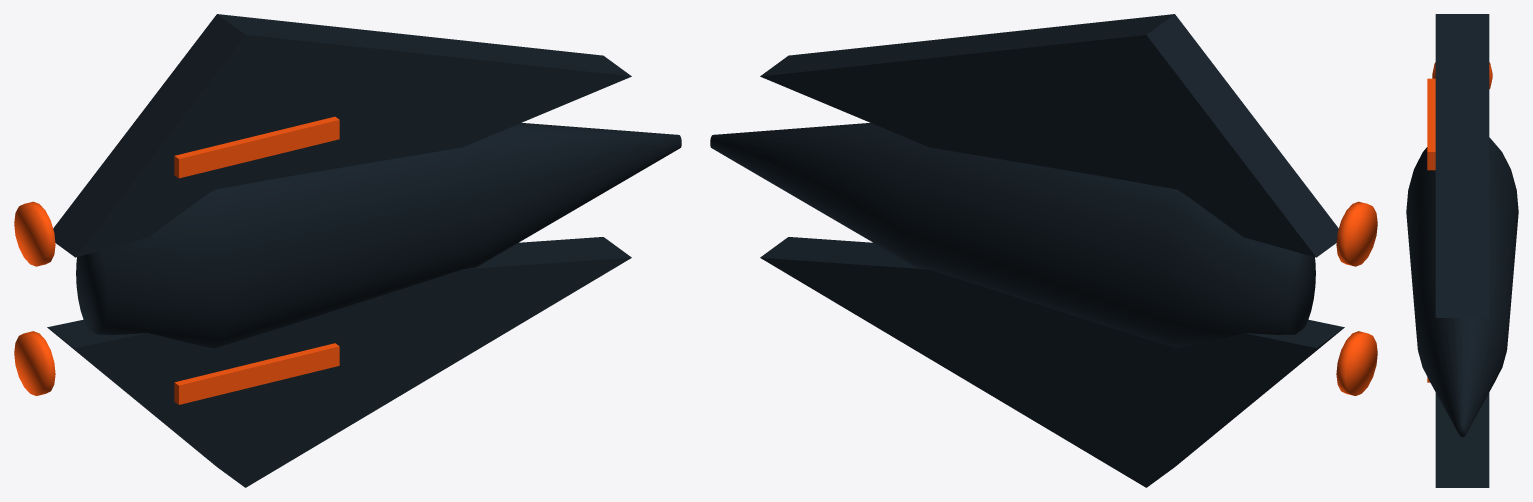
Rendered from SM_Pursuer.obj.
3 renders of one model, left to right at view 1: azimuth 30°, elevation 25°; view 2: azimuth 150°, elevation 25°; view 3: azimuth 270°, elevation 25°, orthographic. The views are drawn at different scales.
Visible parts, largest first — view 1: SM_Pursuer; view 2: SM_Pursuer; view 3: SM_Pursuer.
Boxes of the visible parts, x1,y1,x2,y2 form: SM_Pursuer: [14, 14, 681, 487]; SM_Pursuer: [710, 14, 1377, 487]; SM_Pursuer: [1406, 14, 1518, 487].
Bounding box in the file's own units: 210 × 140 × 33.6.
